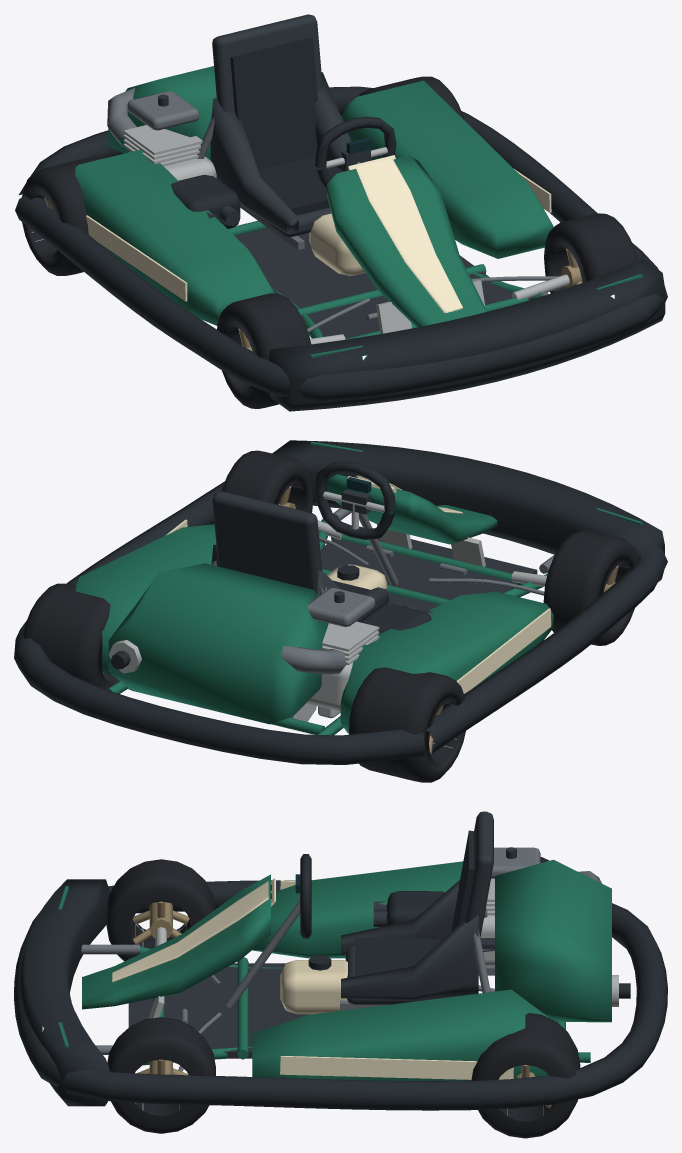
Rendered from ooli-lod.glb.
The picture shows the model from 3 angles, top to bottom: view 1: azimuth 30°, elevation 25°; view 2: azimuth 150°, elevation 25°; view 3: azimuth 270°, elevation 25°; orthographic projection.
Visible parts, largest first — view 1: paint, Moulded bumper polymer (×3), Satin composite, Slick vulcanised rubber (×4), Seat fabric, Livery ivory, Brushed alloy, Steel fasteners, Fuel reservoir; view 2: paint, Moulded bumper polymer (×3), Slick vulcanised rubber (×4), Satin composite (×2), Brushed alloy (×2), Steel fasteners, Livery ivory, Fuel reservoir; view 3: paint, Moulded bumper polymer (×3), Slick vulcanised rubber (×3), Satin composite, Livery ivory, Steel fasteners (×2), Seat fabric, Fuel reservoir, Brushed alloy, Magnesium wheel centres.
Boxes of the visible parts, <box> form: paint: <box>75,66,553,339</box>; Moulded bumper polymer (×3): <box>15,86,667,411</box>; Satin composite: <box>158,14,512,338</box>; Slick vulcanised rubber (×4): <box>22,76,637,408</box>; Seat fabric: <box>230,37,343,215</box>; Livery ivory: <box>86,158,551,312</box>; Brushed alloy: <box>123,125,569,344</box>; Steel fasteners: <box>107,88,558,332</box>; Fuel reservoir: <box>309,213,365,275</box>; paint: <box>75,474,553,735</box>; Moulded bumper polymer (×3): <box>14,440,667,764</box>; Slick vulcanised rubber (×4): <box>23,450,639,782</box>; Satin composite (×2): <box>211,489,537,621</box>; Brushed alloy (×2): <box>109,491,546,721</box>; Steel fasteners: <box>211,513,544,711</box>; Livery ivory: <box>165,475,551,693</box>; Fuel reservoir: <box>327,564,387,589</box>; paint: <box>82,859,611,1081</box>; Moulded bumper polymer (×3): <box>14,854,667,1110</box>; Slick vulcanised rubber (×3): <box>106,859,580,1138</box>; Satin composite: <box>128,811,516,1058</box>; Livery ivory: <box>112,880,513,1079</box>; Steel fasteners (×2): <box>81,847,601,1074</box>; Seat fabric: <box>355,830,474,976</box>; Fuel reservoir: <box>280,960,347,1014</box>; Brushed alloy: <box>149,878,618,1018</box>; Magnesium wheel centres: <box>133,901,189,944</box>.
Size of the model in its own units: 2.17 by 1.01 by 2.8.
